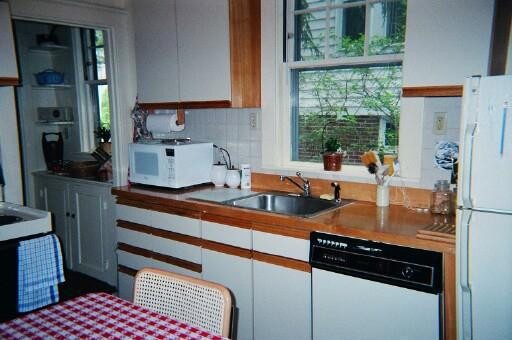Electrodomestico: (454, 75, 511, 334), (311, 230, 447, 338)
Lavaplatos: (221, 176, 358, 230)
Ventana: (277, 7, 405, 175)
